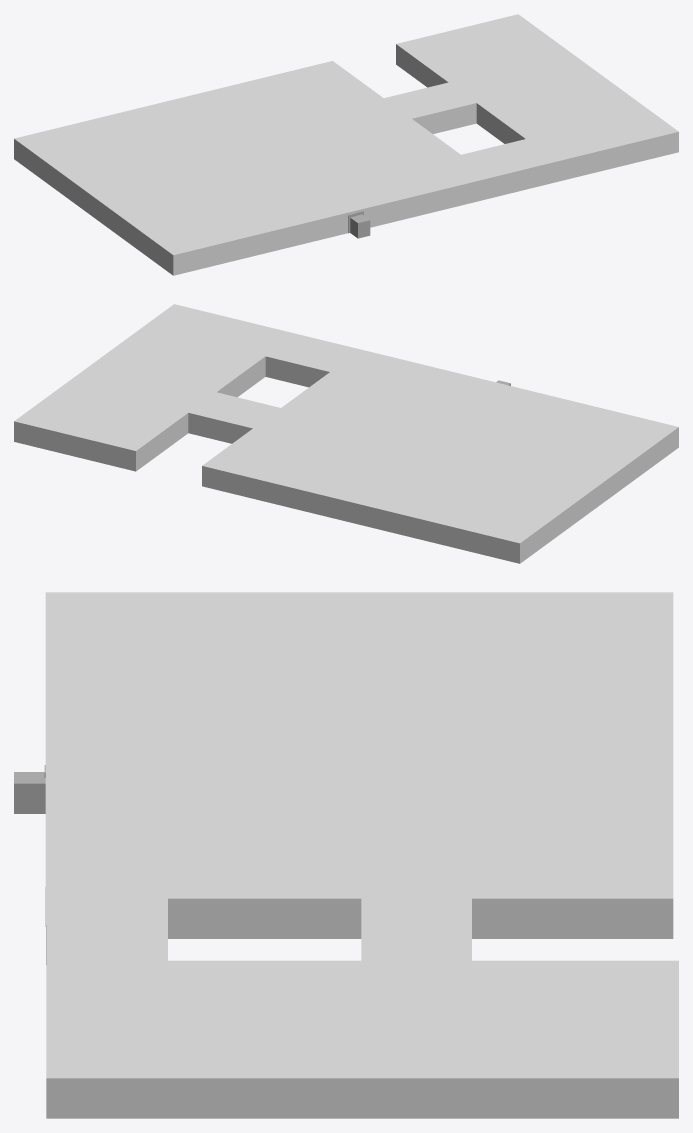
File: FYP_Hospital_TEMP_Baked.fbx
The picture shows the model from 3 angles, top to bottom: view 1: azimuth 30°, elevation 25°; view 2: azimuth 150°, elevation 25°; view 3: azimuth 270°, elevation 25°; orthographic projection. The views are drawn at different scales.
Visible parts, largest first — view 1: Ceiling, Walls, Lift.001; view 2: Ceiling, Walls; view 3: Ceiling, Walls, Lift.001.
Part boxes in pixels (left/top/right/bottom): Ceiling: left=16, top=14, right=678, bottom=255; Walls: left=14, top=16, right=678, bottom=275; Lift.001: left=350, top=214, right=370, bottom=238; Ceiling: left=15, top=304, right=676, bottom=543; Walls: left=14, top=304, right=678, bottom=563; Ceiling: left=45, top=592, right=678, bottom=1078; Walls: left=45, top=592, right=678, bottom=1118; Lift.001: left=14, top=772, right=45, bottom=813.
Size of the model in its own units: 10304 by 5959 by 400.
